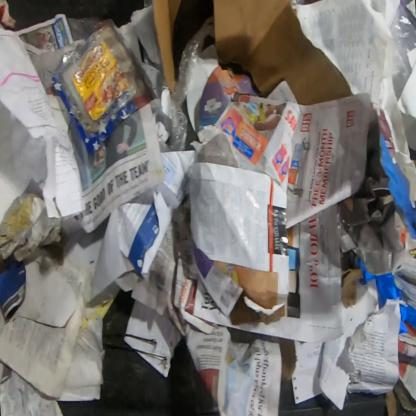cardboard: (212, 0, 354, 106), (210, 260, 284, 328), (359, 257, 415, 335), (378, 133, 415, 242), (152, 0, 182, 95)
soft_plastic: (51, 18, 156, 158), (158, 40, 201, 152), (388, 0, 415, 104)
